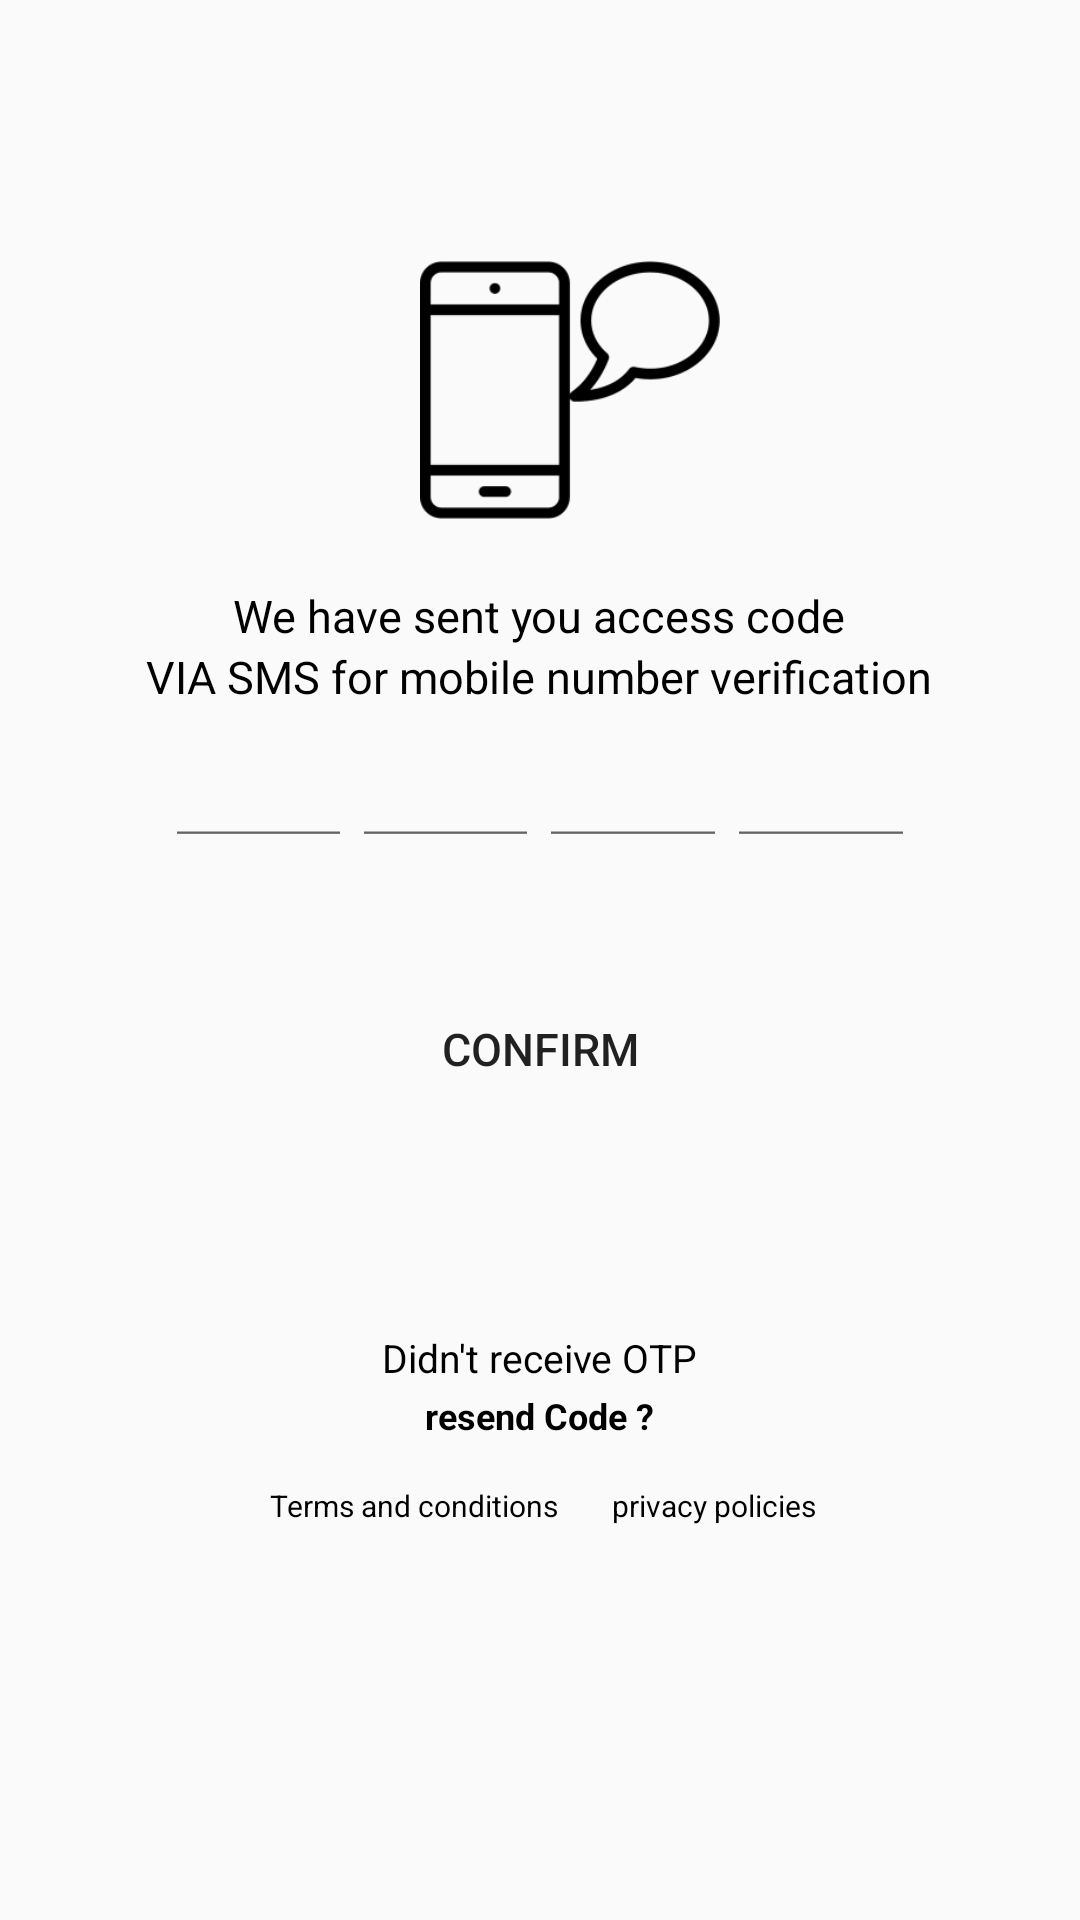

Icon bounding boxes for this 1080 x 1920 phone screenshot, format (x1, y1, x2, y2):
phone: (420, 261, 720, 519)
